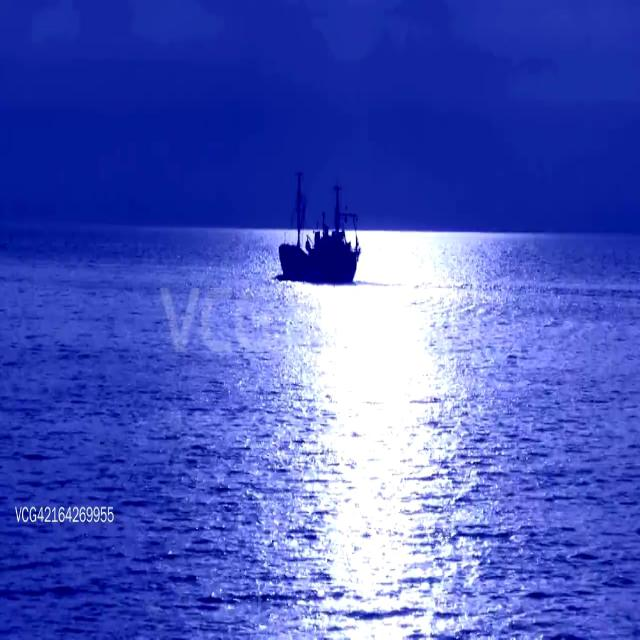houseboat: (275, 169, 361, 284)
